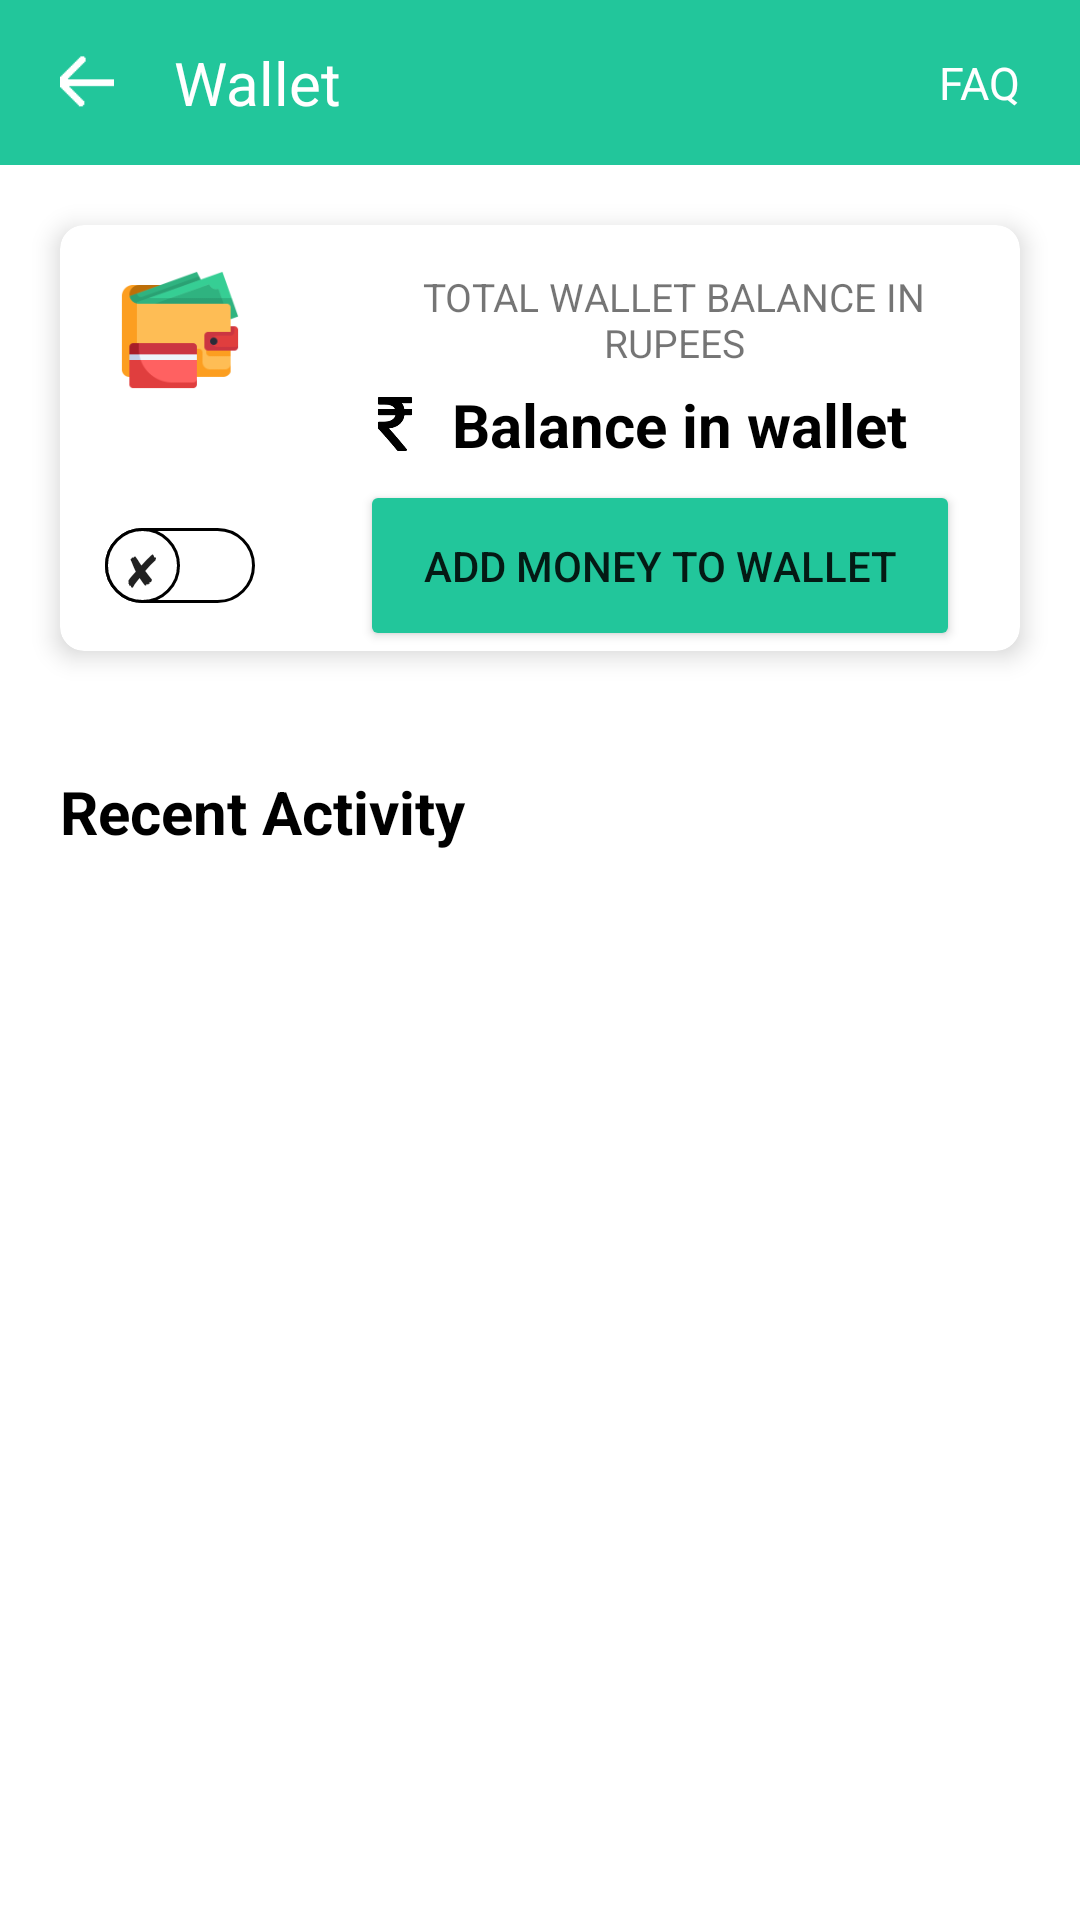

Screen size 1080x1920. Icon name, then its center in pixels as (x=x, y=y):
arrow: (x=87, y=81)
